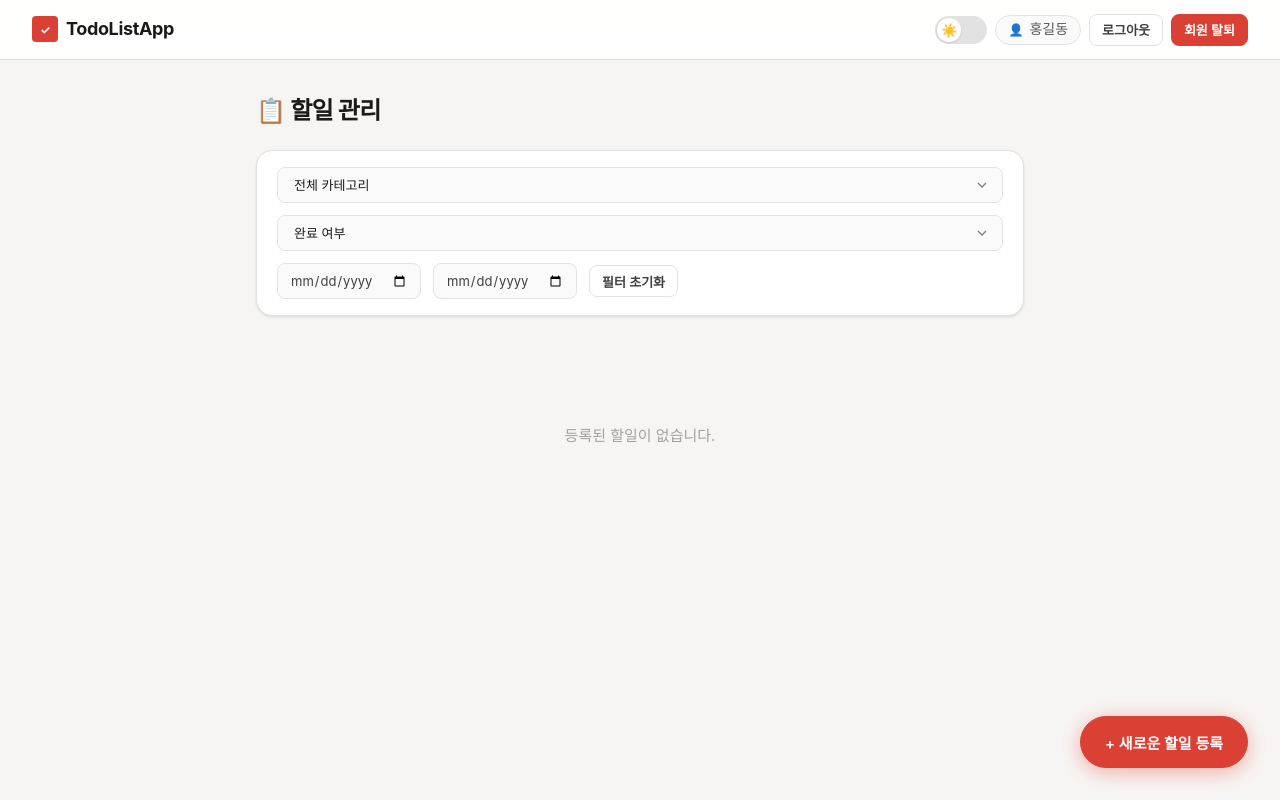
Test: FE-12 회원 탈퇴 — 완료 조건 › 처리 중 로딩 상태가 표시된다
What coordinates should you click on to do the following:
click the button with test id "delete-account-button"
I would click on:
 (1209, 30)
Its box is [1171,14,1248,46].
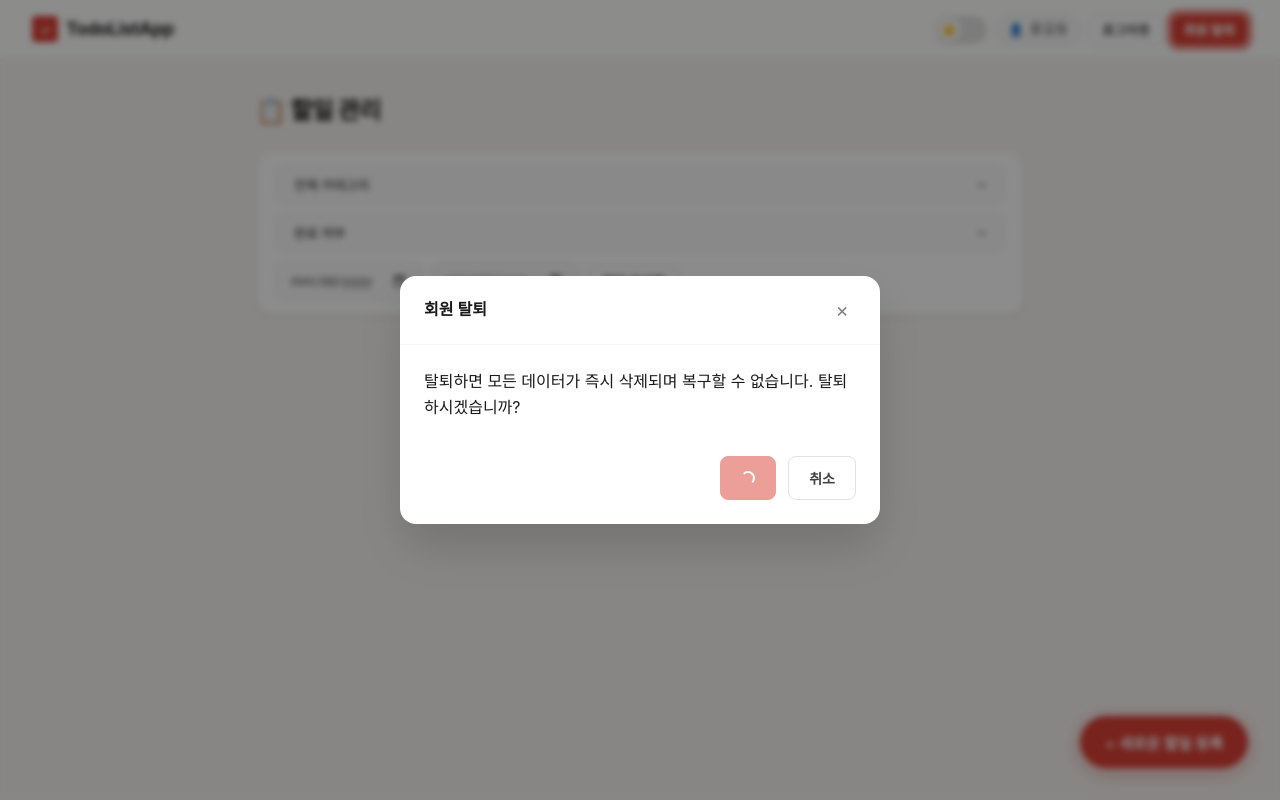
expect the button with test id "confirm-delete-account" is disabled: met, box [720,456,776,500]
